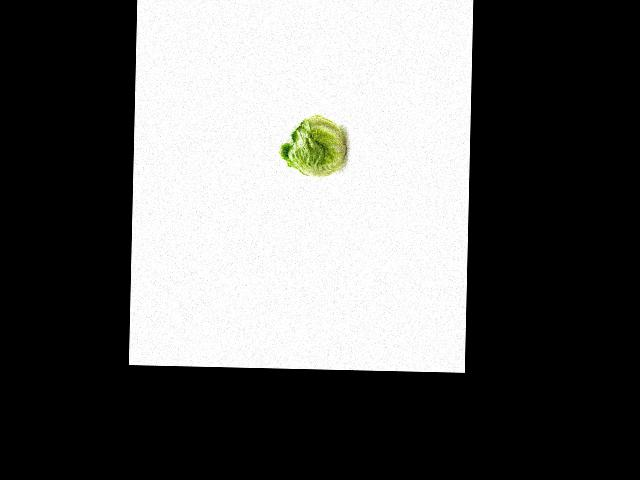lettuce: (278, 108, 349, 180)
